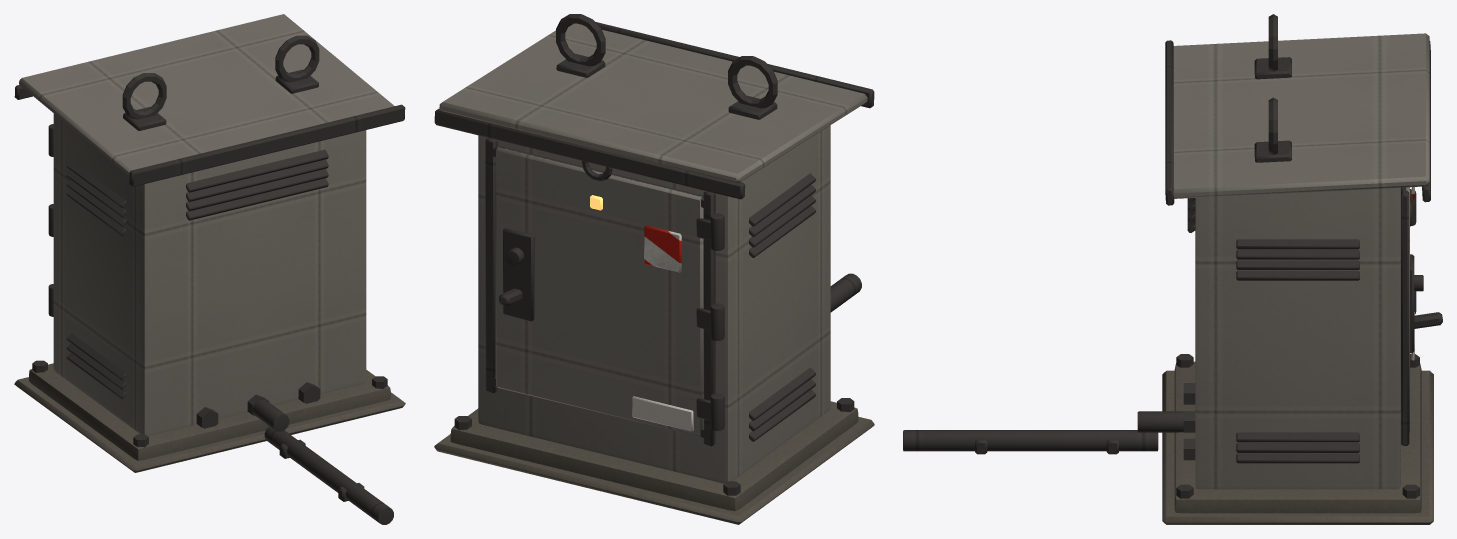
File: feeder_pillar.glb
The picture shows the model from 3 angles, left to right: view 1: azimuth 30°, elevation 25°; view 2: azimuth 150°, elevation 25°; view 3: azimuth 270°, elevation 25°; orthographic projection. The views are drawn at different scales.
Visible parts, largest first — view 1: body, roof, plinth, gutter, grout, conduit, vent_back.003, vent_back.002, vent_back, vent_back.001, eye.001, eye (+10 smaller); view 2: door, body, roof, plinth, grout, drip, door_stile.001, latch_plate, door_stile, gutter, warn, nameplate (+16 smaller); view 3: body, roof, plinth, grout, conduit, door_stile.001, gutter, vent_lo.003, vent_lo.005, vent_hi.004, vent_hi.007, vent_hi.006 (+5 smaller).
Boxes of the visible parts, box(x1,y1,x2,y2) form: body: box(53, 113, 366, 436); roof: box(19, 14, 394, 175); plinth: box(29, 363, 390, 460); gutter: box(129, 104, 405, 186); grout: box(14, 377, 405, 472); conduit: box(264, 426, 393, 524); vent_back.003: box(186, 149, 328, 192); vent_back.002: box(186, 159, 328, 201); vent_back: box(186, 178, 328, 220); vent_back.001: box(186, 169, 328, 211); eye.001: box(275, 35, 319, 82); eye: box(122, 73, 166, 119); door: box(495, 147, 703, 437); body: box(478, 125, 830, 483); roof: box(439, 23, 867, 182); plinth: box(450, 401, 858, 511); grout: box(434, 416, 874, 524); drip: box(434, 108, 745, 199); door_stile.001: box(485, 138, 497, 393); latch_plate: box(503, 228, 534, 321); door_stile: box(703, 191, 715, 446); gutter: box(578, 22, 874, 108); warn: box(644, 225, 681, 272); nameplate: box(632, 396, 693, 431); body: box(1195, 187, 1400, 489); roof: box(1173, 33, 1429, 198); plinth: box(1174, 361, 1421, 513); grout: box(1162, 370, 1433, 524); conduit: box(903, 430, 1158, 451); door_stile.001: box(1401, 190, 1409, 445); gutter: box(1165, 40, 1174, 205); vent_lo.003: box(1236, 453, 1359, 463); vent_lo.005: box(1236, 432, 1359, 442); vent_hi.004: box(1236, 270, 1359, 280); vent_hi.007: box(1236, 239, 1359, 249); vent_hi.006: box(1236, 249, 1359, 259).
Size of the model in its own units: 0.86 by 1.06 by 1.31.
Materials: 6 (5 with a texture image).
